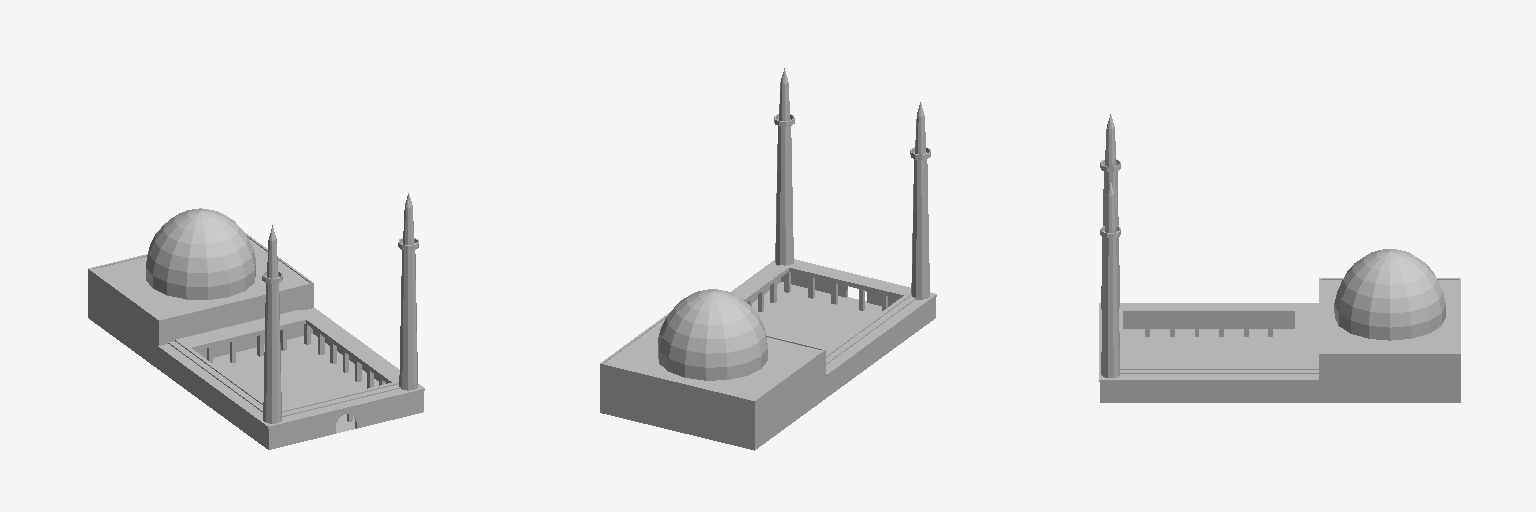
Rendered from Religious_Mosque.obj.
3 renders of one model, left to right at view 1: azimuth 30°, elevation 25°; view 2: azimuth 150°, elevation 25°; view 3: azimuth 270°, elevation 25°, orthographic.
Parts seen in each view (by area): view 1: Mesh27 Model, Mesh26 minaret2 Model, Mesh25 minaret1 Model; view 2: Mesh27 Model, Mesh26 minaret2 Model, Mesh25 minaret1 Model; view 3: Mesh27 Model, Mesh25 minaret1 Model, Mesh26 minaret2 Model.
Part boxes in pixels (bbox=[...]): Mesh27 Model: bbox=[88, 208, 424, 449]; Mesh26 minaret2 Model: bbox=[262, 225, 282, 423]; Mesh25 minaret1 Model: bbox=[398, 193, 418, 390]; Mesh27 Model: bbox=[600, 259, 936, 450]; Mesh26 minaret2 Model: bbox=[910, 102, 930, 299]; Mesh25 minaret1 Model: bbox=[774, 68, 794, 265]; Mesh27 Model: bbox=[1099, 249, 1460, 402]; Mesh25 minaret1 Model: bbox=[1100, 181, 1120, 377]; Mesh26 minaret2 Model: bbox=[1100, 114, 1120, 308].
Bounding box in the file's own units: 900 × 1198 × 1800.